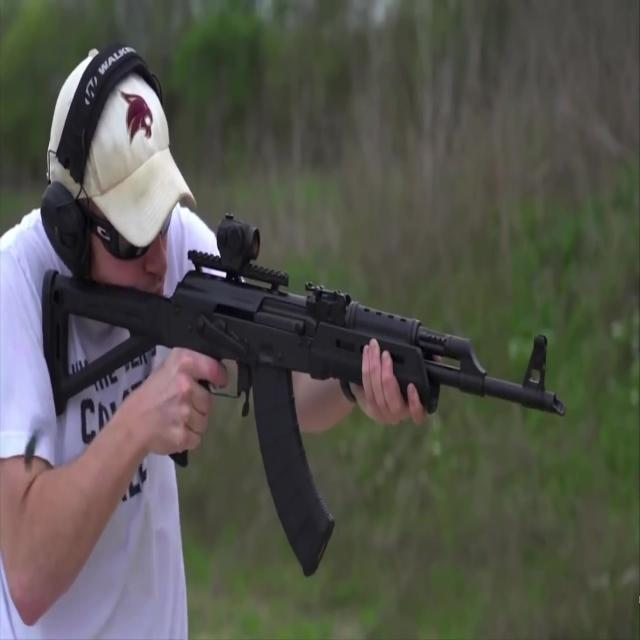Weapon: (32, 198, 591, 588)
